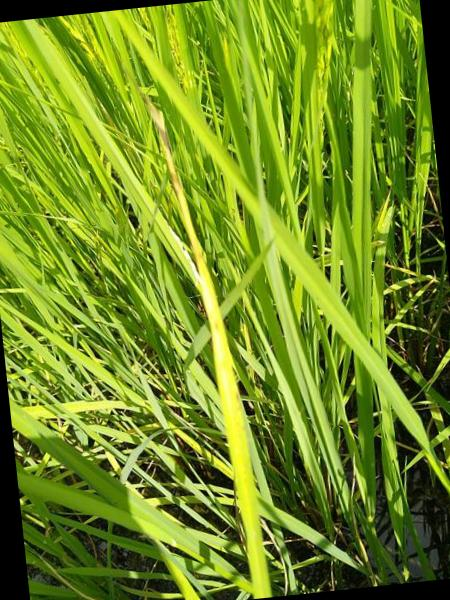Leaf Blight: (159, 126, 273, 599)
